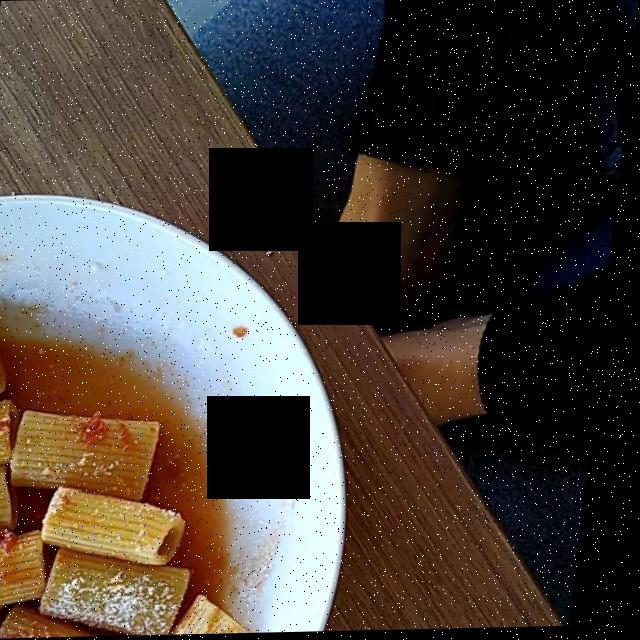cheese: (52, 574, 241, 628)
pasta: (0, 355, 247, 629)
tomato-sauce: (11, 318, 245, 597)
